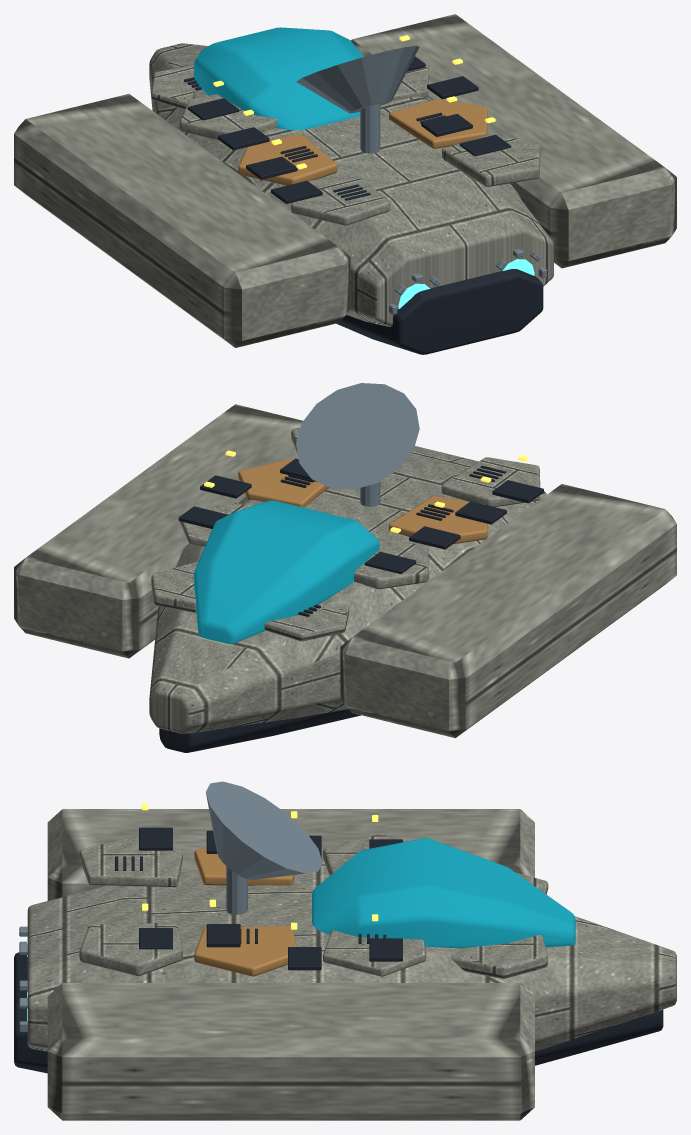
File: odyssey.glb
3 views of the same model, one above another, from view 1: azimuth 30°, elevation 25°; view 2: azimuth 150°, elevation 25°; view 3: azimuth 270°, elevation 25° (orthographic). The views are drawn at different scales.
Visible parts, largest first — view 1: Gôndola do motor.035 · exportação, Bocal do motor.035 · exportação, Cabine panorâmica.017 · exportação, Antena parabólica.001 · exportação, Colar da turbina.106 · exportação, Núcleo propulsor.035 · exportação; view 2: Gôndola do motor.035 · exportação, Cabine panorâmica.017 · exportação, Antena parabólica.001 · exportação, Bocal do motor.035 · exportação, Colar da turbina.106 · exportação; view 3: Gôndola do motor.035 · exportação, Cabine panorâmica.017 · exportação, Bocal do motor.035 · exportação, Antena parabólica.001 · exportação, Colar da turbina.106 · exportação.
Part boxes in pixels (left/top/right/bottom): Gôndola do motor.035 · exportação: left=14, top=14, right=676, bottom=347; Bocal do motor.035 · exportação: left=184, top=56, right=543, bottom=354; Cabine panorâmica.017 · exportação: left=194, top=27, right=364, bottom=130; Antena parabólica.001 · exportação: left=296, top=45, right=546, bottom=314; Colar da turbina.106 · exportação: left=238, top=99, right=487, bottom=185; Núcleo propulsor.035 · exportação: left=398, top=259, right=534, bottom=308; Gôndola do motor.035 · exportação: left=14, top=404, right=676, bottom=738; Cabine panorâmica.017 · exportação: left=194, top=500, right=379, bottom=643; Antena parabólica.001 · exportação: left=296, top=383, right=419, bottom=506; Bocal do motor.035 · exportação: left=159, top=458, right=543, bottom=752; Colar da turbina.106 · exportação: left=238, top=458, right=487, bottom=543; Gôndola do motor.035 · exportação: left=27, top=809, right=676, bottom=1120; Cabine panorâmica.017 · exportação: left=312, top=837, right=575, bottom=948; Bocal do motor.035 · exportação: left=14, top=827, right=663, bottom=1073; Antena parabólica.001 · exportação: left=19, top=781, right=322, bottom=1031; Colar da turbina.106 · exportação: left=194, top=847, right=296, bottom=976.
Size of the model in its own units: 42.2 by 22.29 by 49.
7 materials, 1 textured.
